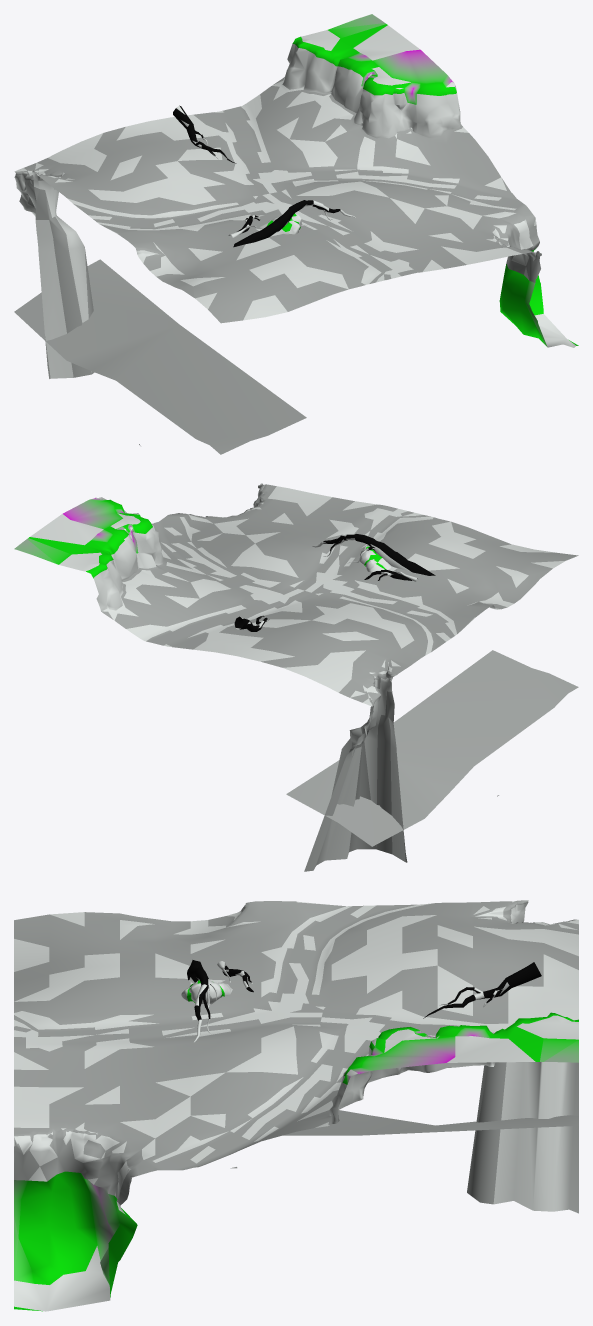
3 views of the same model, one above another, from view 1: azimuth 30°, elevation 25°; view 2: azimuth 150°, elevation 25°; view 3: azimuth 270°, elevation 25° (orthographic). The views are drawn at different scales.
Visible parts, largest first — view 1: G:\FFXIV-MapTools\exports\f1f1\bg\ffxiv\fst_f1\fld\f1f1\bgpl (×18); view 2: G:\FFXIV-MapTools\exports\f1f1\bg\ffxiv\fst_f1\fld\f1f1\bgpl (×19); view 3: G:\FFXIV-MapTools\exports\f1f1\bg\ffxiv\fst_f1\fld\f1f1\bgpl (×20).
Boxes of the visible parts, box(x1,y1,x2,y2) form: G:\FFXIV-MapTools\exports\f1f1\bg\ffxiv\fst_f1\fld\f1f1\bgpl (×18): box(14, 14, 578, 454); G:\FFXIV-MapTools\exports\f1f1\bg\ffxiv\fst_f1\fld\f1f1\bgpl (×19): box(14, 483, 578, 871); G:\FFXIV-MapTools\exports\f1f1\bg\ffxiv\fst_f1\fld\f1f1\bgpl (×20): box(14, 901, 578, 1311).
Size of the model in its own units: 128 by 86.25 by 128.
